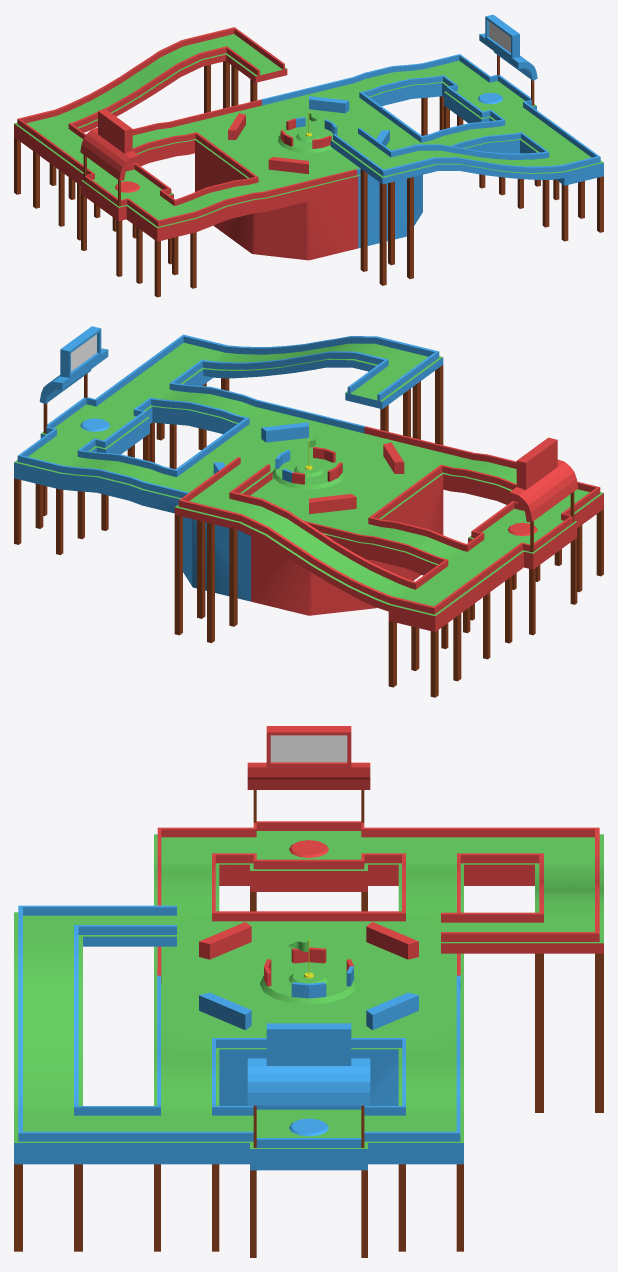
The model's file is Map.fbx.
The picture shows the model from 3 angles, top to bottom: view 1: azimuth 30°, elevation 25°; view 2: azimuth 150°, elevation 25°; view 3: azimuth 270°, elevation 25°; orthographic projection. The views are drawn at different scales.
Visible parts, largest first — view 1: wall, floor; view 2: wall, floor; view 3: wall, floor.
Boxes of the visible parts, x1=… form: wall: x1=14, y1=14, x2=603, y2=297; floor: x1=14, y1=34, x2=603, y2=228; wall: x1=14, y1=326, x2=603, y2=697; floor: x1=14, y1=342, x2=603, y2=616; wall: x1=14, y1=726, x2=603, y2=1257; floor: x1=14, y1=831, x2=603, y2=1148.
Bounding box in the file's own units: 3392 × 1083 × 2635.
